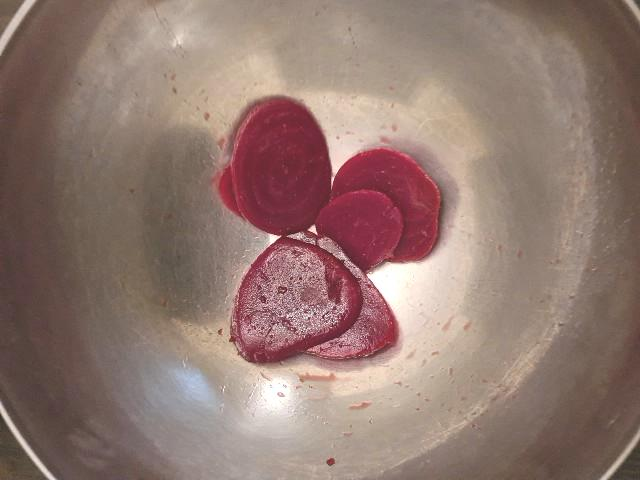kichen waste: (220, 100, 442, 362)
